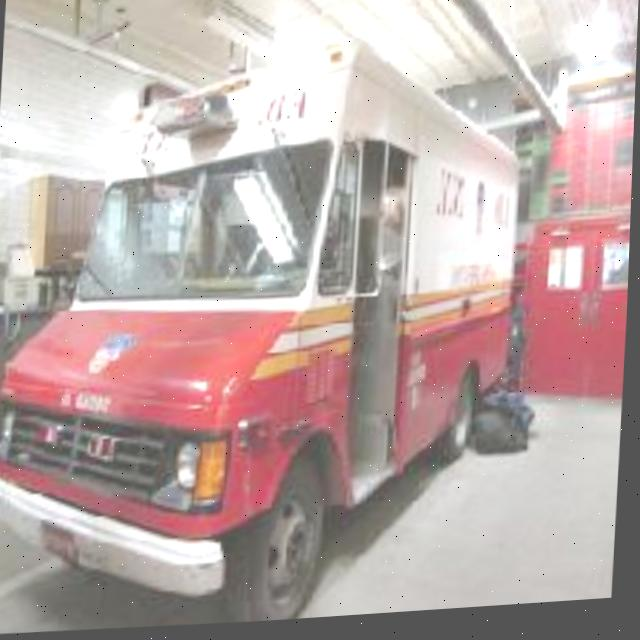emergency: (0, 53, 585, 569)
